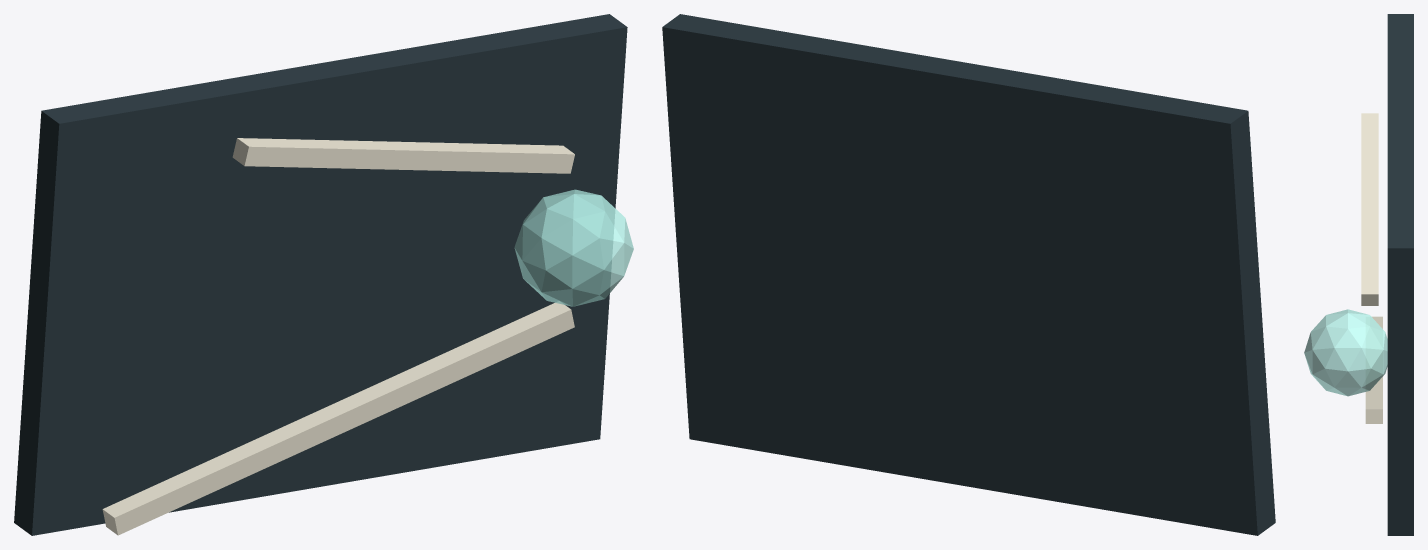
The model's file is 02_world_prop_polish.glb.
3 renders of one model, left to right at view 1: azimuth 30°, elevation 25°; view 2: azimuth 150°, elevation 25°; view 3: azimuth 270°, elevation 25°, orthographic. The views are drawn at different scales.
Parts seen in each view (by area): view 1: object_overlay_plate, edge_wear_a, glow_socket, edge_wear_b; view 2: object_overlay_plate; view 3: object_overlay_plate, glow_socket, edge_wear_b, edge_wear_a.
Part boxes in pixels (x1,y1,x2,y2): object_overlay_plate: [14, 14, 627, 535]; edge_wear_a: [102, 301, 574, 535]; glow_socket: [514, 189, 633, 306]; edge_wear_b: [232, 138, 574, 173]; object_overlay_plate: [662, 14, 1275, 535]; object_overlay_plate: [1387, 14, 1413, 535]; glow_socket: [1304, 309, 1387, 396]; edge_wear_b: [1361, 113, 1378, 305]; edge_wear_a: [1365, 316, 1382, 423].
Size of the model in its own units: 1.15 by 0.8255 by 0.25.
